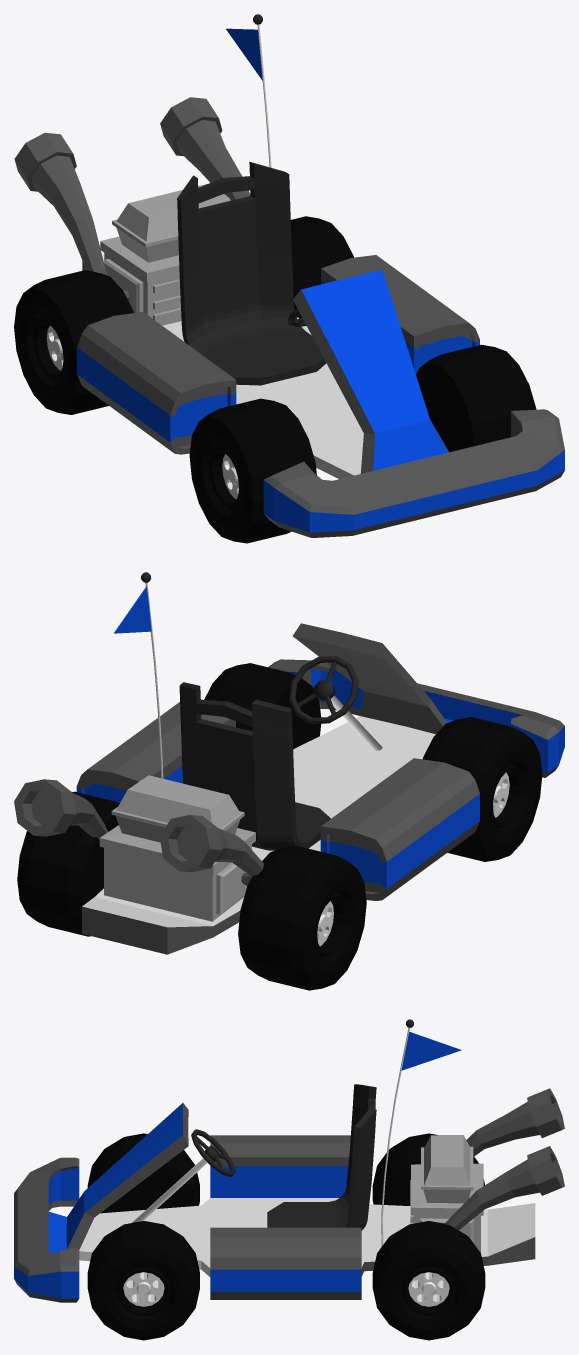
The model's file is GoKart.fbx.
3 views of the same model, one above another, from view 1: azimuth 30°, elevation 25°; view 2: azimuth 150°, elevation 25°; view 3: azimuth 270°, elevation 25° (orthographic). The views are drawn at different scales.
Visible parts, largest first — view 1: Kart Body, Wheel Front Right, Wheel Front Right.001, Wheel Front Left, Wheel Front Left.001, Flag; view 2: Kart Body, Wheel Front Right.001, Wheel Front Right, Wheel Front Left.001, Wheel Front Left, Steering Wheel, Flag; view 3: Kart Body, Wheel Front Left.001, Wheel Front Left, Wheel Front Right, Wheel Front Right.001, Flag, Steering Wheel.
Boxes of the visible parts, box(x1,y1,x2,y2) form: Kart Body: box(14, 97, 564, 537); Wheel Front Right: box(189, 398, 316, 543); Wheel Front Right.001: box(14, 270, 133, 414); Wheel Front Left: box(416, 344, 536, 452); Wheel Front Left.001: box(290, 216, 353, 318); Flag: box(226, 14, 271, 167); Kart Body: box(14, 623, 564, 954); Wheel Front Right.001: box(238, 845, 366, 990); Wheel Front Right: box(422, 717, 542, 861); Wheel Front Left.001: box(17, 791, 119, 936); Wheel Front Left: box(204, 663, 321, 748); Steering Wheel: box(289, 656, 382, 750); Flag: box(114, 572, 163, 778); Kart Body: box(14, 1084, 564, 1302); Wheel Front Left.001: box(372, 1221, 485, 1340); Wheel Front Left: box(87, 1221, 199, 1340); Wheel Front Right: box(87, 1133, 199, 1213); Wheel Front Right.001: box(372, 1133, 484, 1205); Flag: box(381, 1019, 461, 1246); Steering Wheel: box(132, 1129, 235, 1222).
Size of the model in its own units: 1.67 by 3.18 by 1.85.
